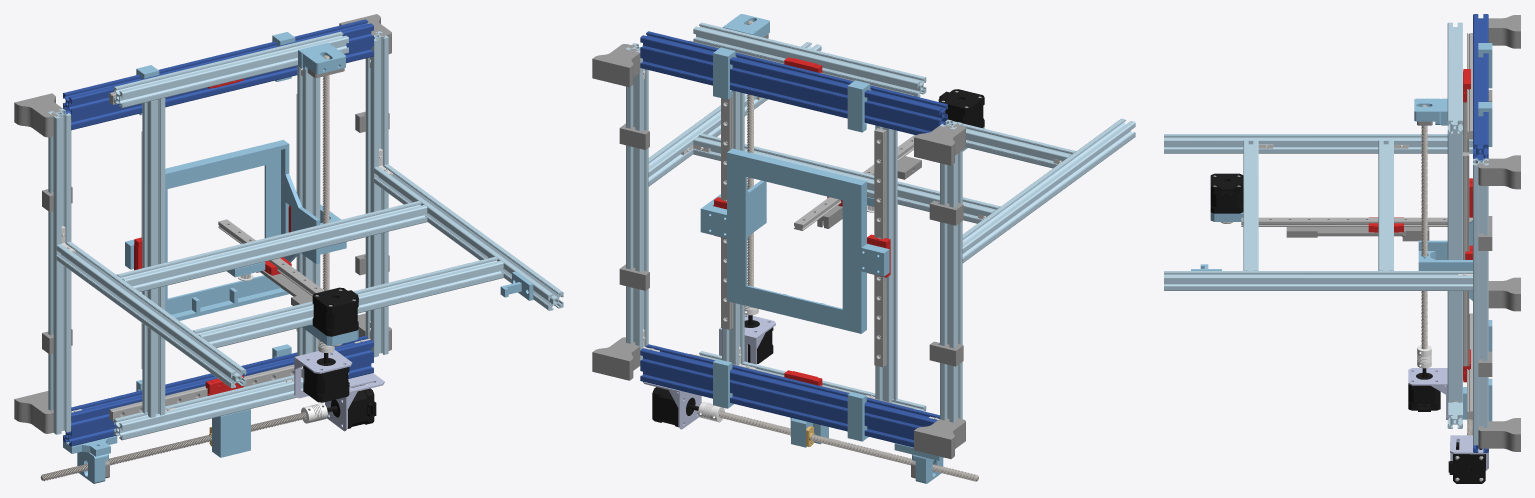
Rendered from robot.glb.
The picture shows the model from 3 angles, left to right: view 1: azimuth 30°, elevation 25°; view 2: azimuth 150°, elevation 25°; view 3: azimuth 270°, elevation 25°; orthographic projection. The views are drawn at different scales.
Visible parts, largest first — view 1: empty_40, empty_58, empty_60, empty_76, empty_65, empty_63, empty_35, empty_66, empty_75, empty_27, empty_70, empty_64 (+18 smaller); view 2: empty_40, empty_63, empty_70, empty_35, empty_60, empty_66, empty_75, empty_76, empty_58, empty_9, empty_65, empty_27 (+25 smaller); view 3: empty_27, empty_66, empty_35, empty_64, empty_63, empty_58, empty_65, empty_75, empty_19, empty_38, empty_4, empty_40 (+15 smaller).
Boxes of the visible parts, x1,y1,x2,y2 form: empty_40: (125,140,346,320); empty_58: (116,201,427,291); empty_60: (48,108,71,434); empty_76: (142,98,165,417); empty_65: (193,256,503,347); empty_63: (63,19,373,130); empty_35: (365,31,388,357); empty_66: (56,241,246,388); empty_75: (113,31,348,108); empty_27: (374,164,563,310); empty_70: (63,335,373,446); empty_64: (297,65,320,377); empty_40: (700,148,889,333); empty_63: (640,31,947,135); empty_70: (640,344,939,447); empty_35: (626,43,648,360); empty_60: (940,119,962,422); empty_66: (962,118,1135,262); empty_75: (693,22,926,97); empty_76: (875,125,897,402); empty_58: (693,133,1000,223); empty_9: (874,128,886,367); empty_65: (953,121,1076,168); empty_27: (648,42,821,186); empty_27: (1164,271,1472,290); empty_66: (1164,134,1472,153); empty_35: (1473,158,1488,445); empty_64: (1447,130,1462,402); empty_63: (1473,14,1488,160); empty_58: (1378,140,1393,270); empty_65: (1243,140,1258,270); empty_75: (1447,22,1462,134); empty_19: (1241,217,1472,226); empty_38: (1421,104,1427,349); empty_4: (1286,227,1429,241); empty_40: (1418,220,1472,300).
Size of the model in its own units: 0.48 by 0.5009 by 0.4619.
